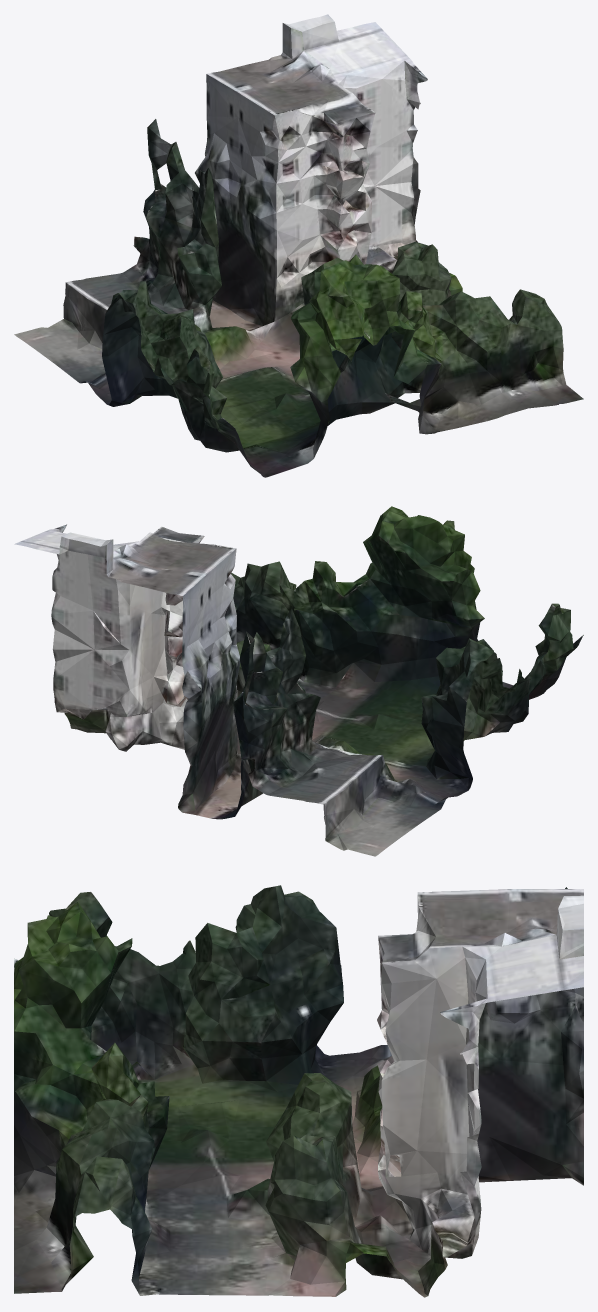
Rendered from helsinki-3-5.glb.
3 views of the same model, one above another, from view 1: azimuth 30°, elevation 25°; view 2: azimuth 150°, elevation 25°; view 3: azimuth 270°, elevation 25° (orthographic). The views are drawn at different scales.
Bounding box in the file's own units: 31.75 × 21 × 31.75.
Materials: 1 (1 with a texture image).
